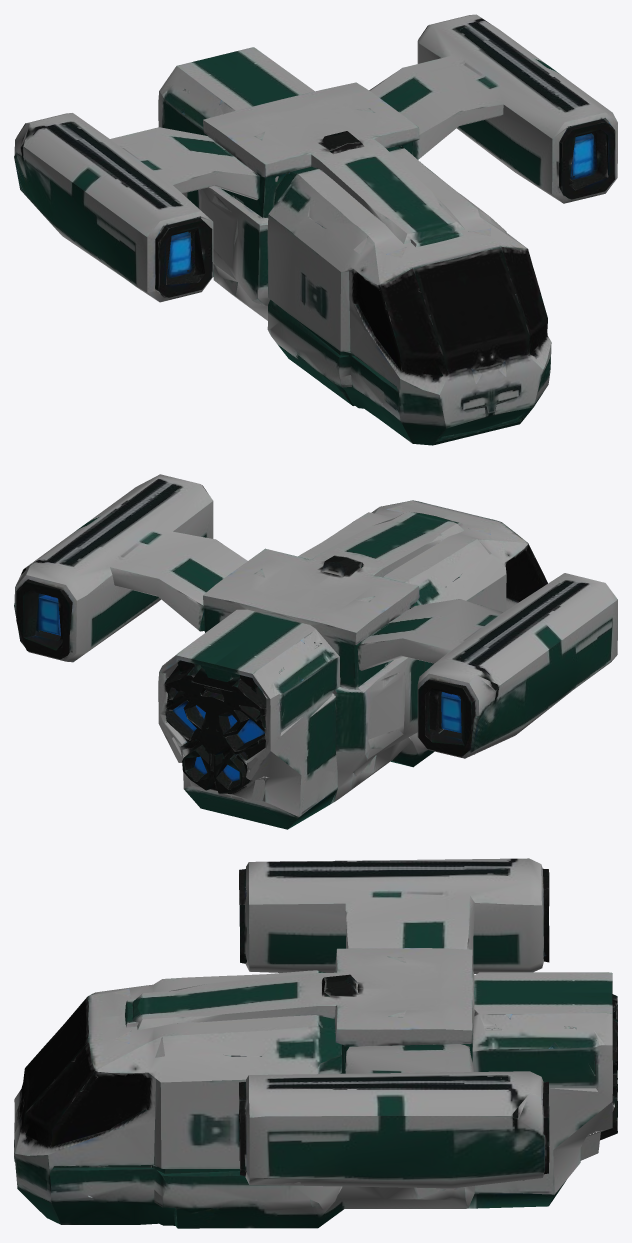
Rendered from nave_16.obj.
3 renders of one model, top to bottom at view 1: azimuth 30°, elevation 25°; view 2: azimuth 150°, elevation 25°; view 3: azimuth 270°, elevation 25°, orthographic. The views are drawn at different scales.
Parts seen in each view (by area): view 1: geometry_0; view 2: geometry_0; view 3: geometry_0.
Part boxes in pixels (<box>): geometry_0: <box>14,14,617,445</box>; geometry_0: <box>14,474,617,829</box>; geometry_0: <box>14,858,617,1228</box>.
Bounding box in the file's own units: 6.93 × 2.82 × 7.
1 material, 1 textured.
